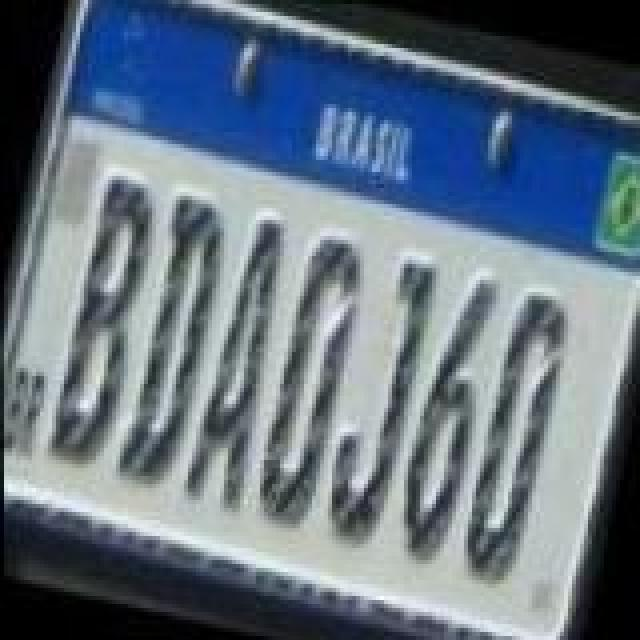6: (378, 254, 506, 570)
A: (176, 206, 304, 518)
B: (38, 162, 166, 470)
D: (104, 182, 236, 494), (444, 274, 576, 586), (240, 218, 368, 534)
J: (310, 238, 442, 550)
